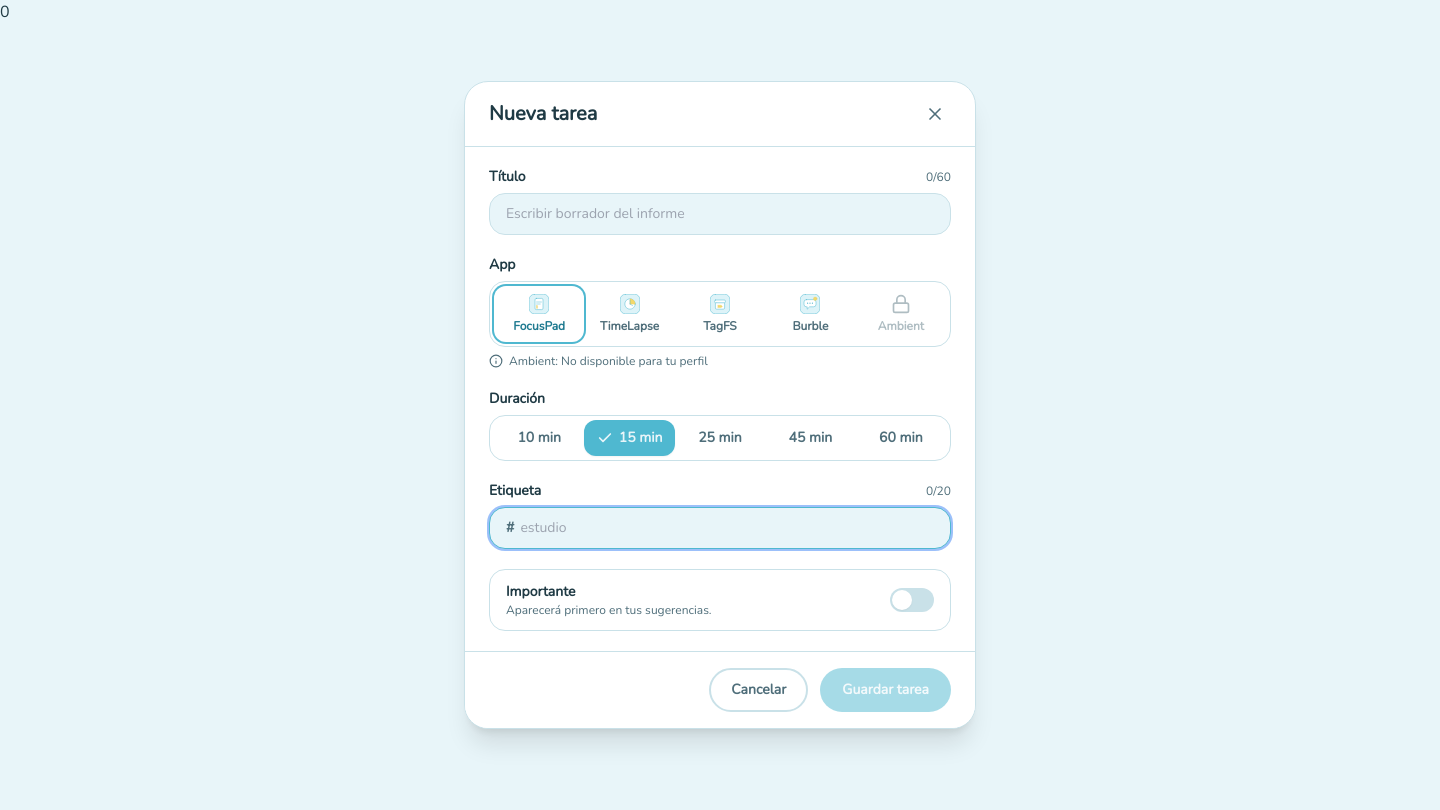
Test: DialogoTarea › no pierde el foco ni lo escrito al avanzar el reloj 3000 ms con re-renders del padre
In the field labelled "Título": [720, 214] box [489,193,951,235], type "Mi borrador"
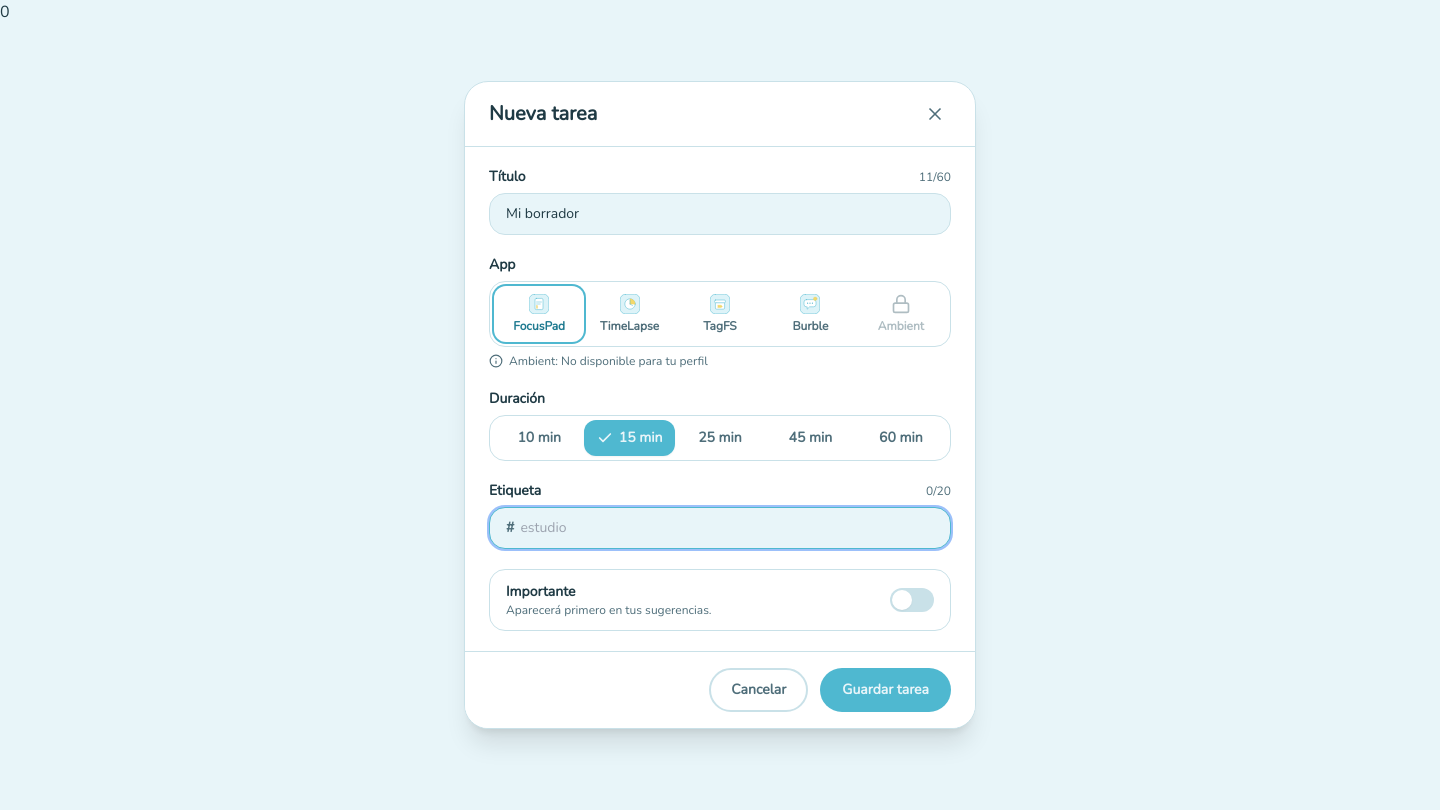
In the field labelled "Etiqueta": [727, 528] box [520,518,934,538], type "tesis"
Wait 3000 ms
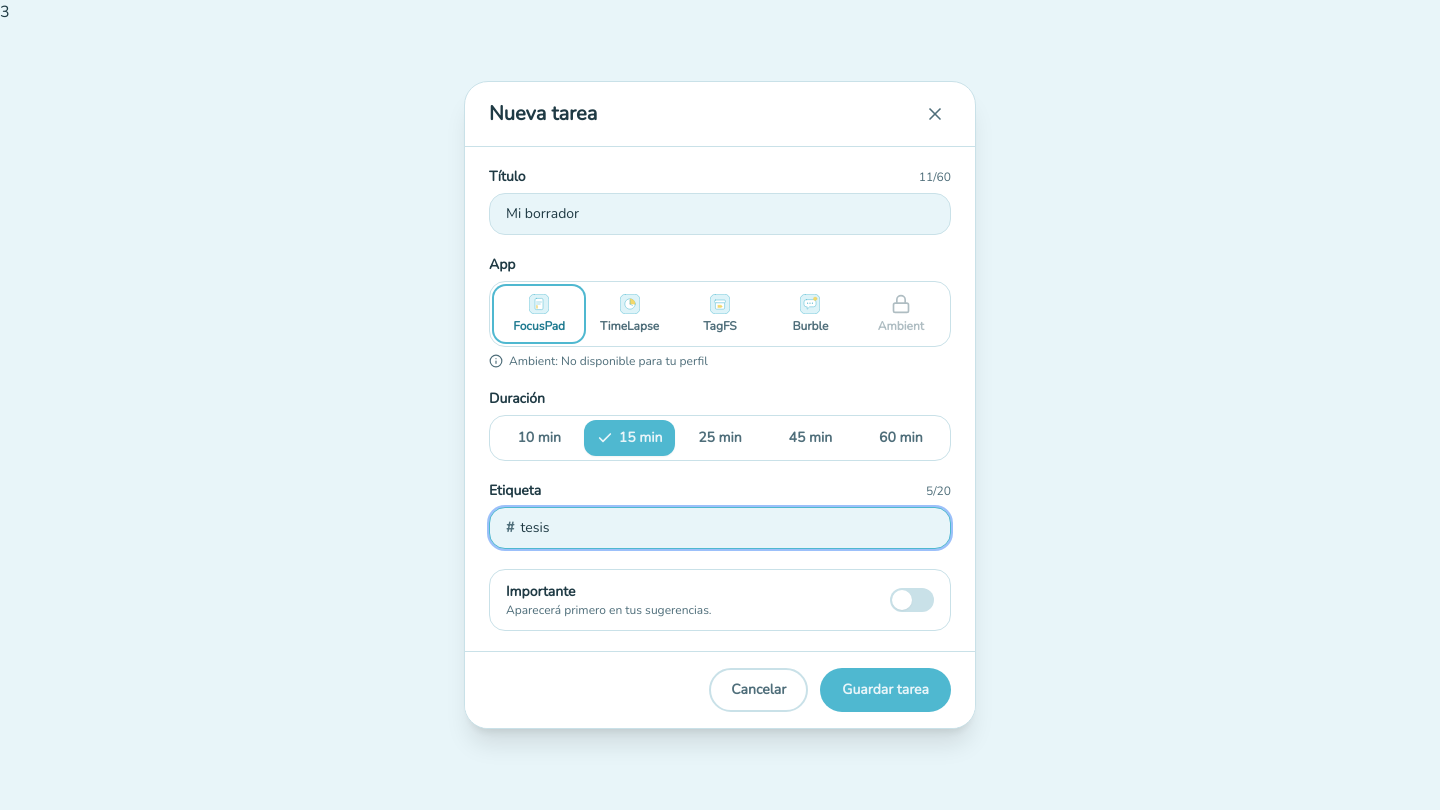
Expected: the text with test id "reloj" reads "3", [0,1,10,23]
